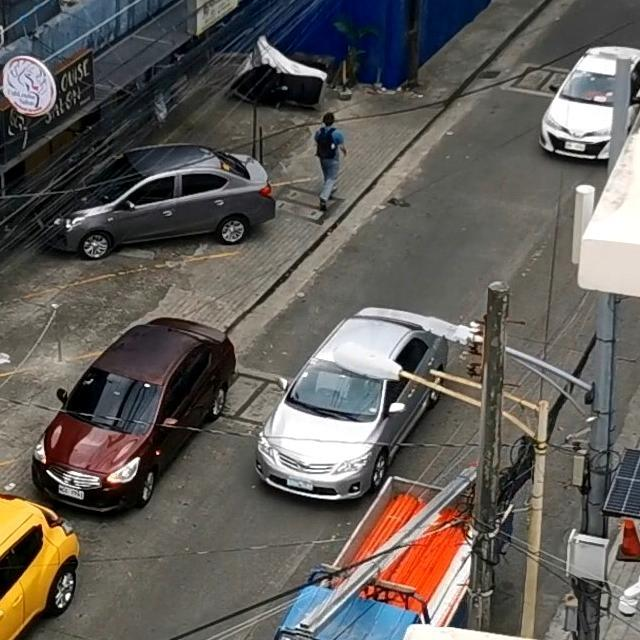Truck: (229, 432, 541, 640)
